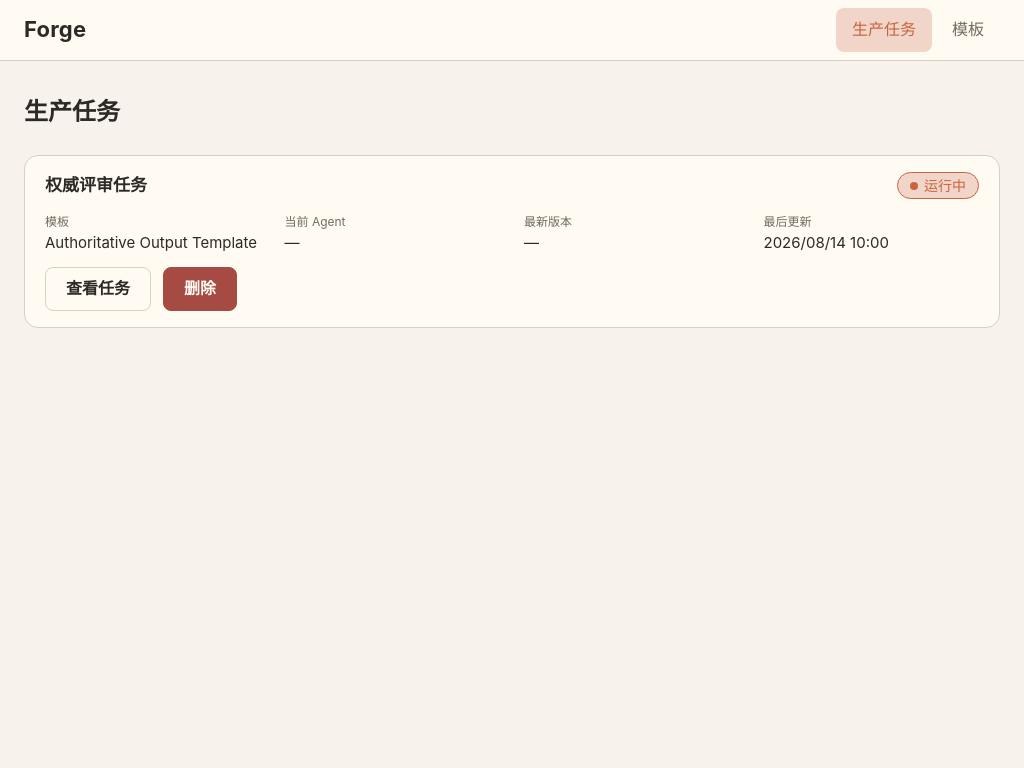
Scenario: TaskListPage v2 delete confirmation (spec §10.5) › creates ONE UUID when the v2 dialog opens and sends the exact JSON body
Expected: the heading "权威评审任务" is shown, top-left (45, 172), bottom-right (147, 200)
Expected: the list item "权威评审任务" is shown, top-left (24, 155), bottom-right (1000, 328)
Click the button "删除". click: (200, 289)
box: top-left (163, 267), bottom-right (237, 311)
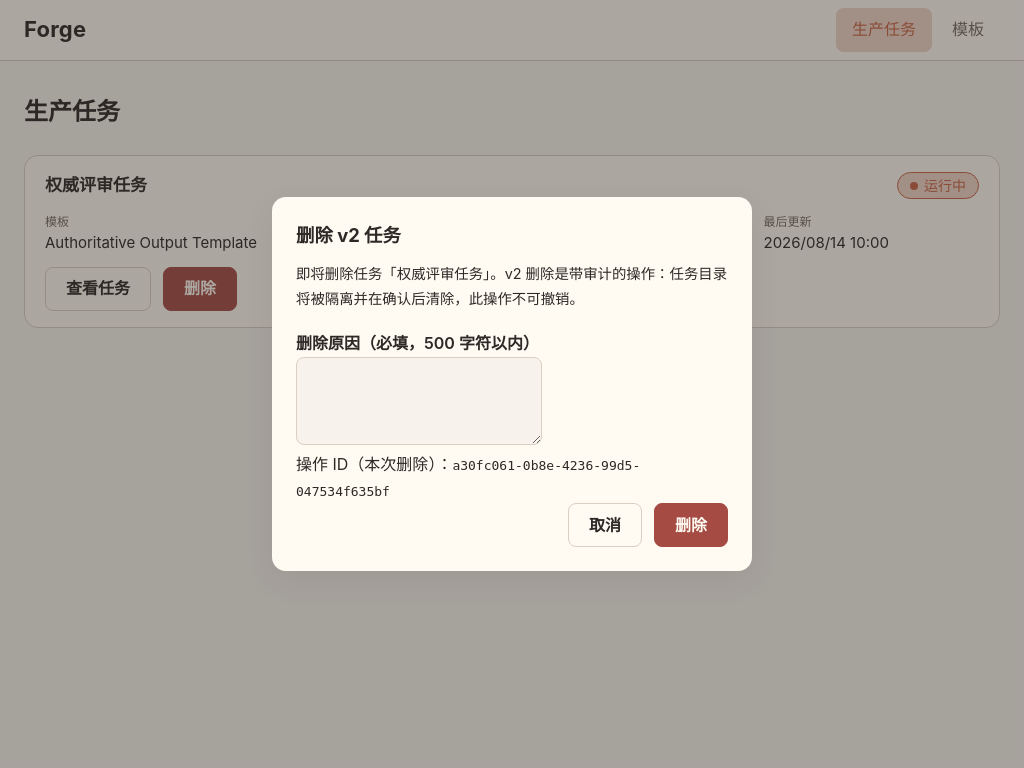
Type "遗留评审任务清理" into the text box. click: (419, 401)
box: top-left (296, 357), bottom-right (542, 445)
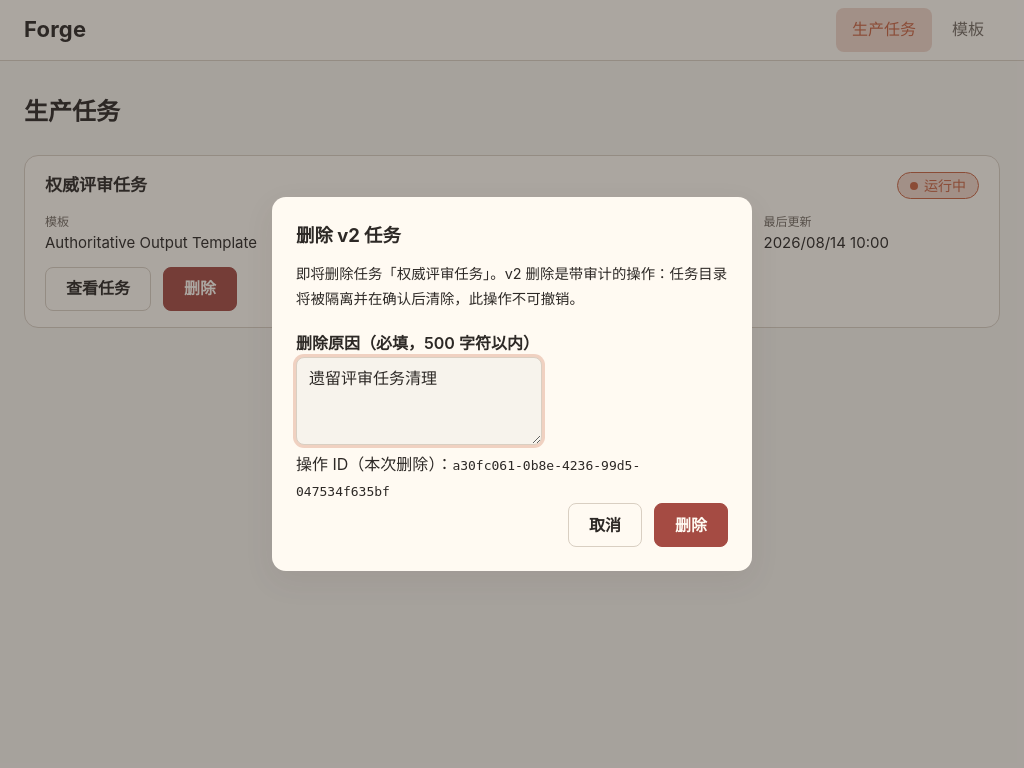
Click the button "删除". click: (691, 525)
box: top-left (654, 503), bottom-right (728, 547)
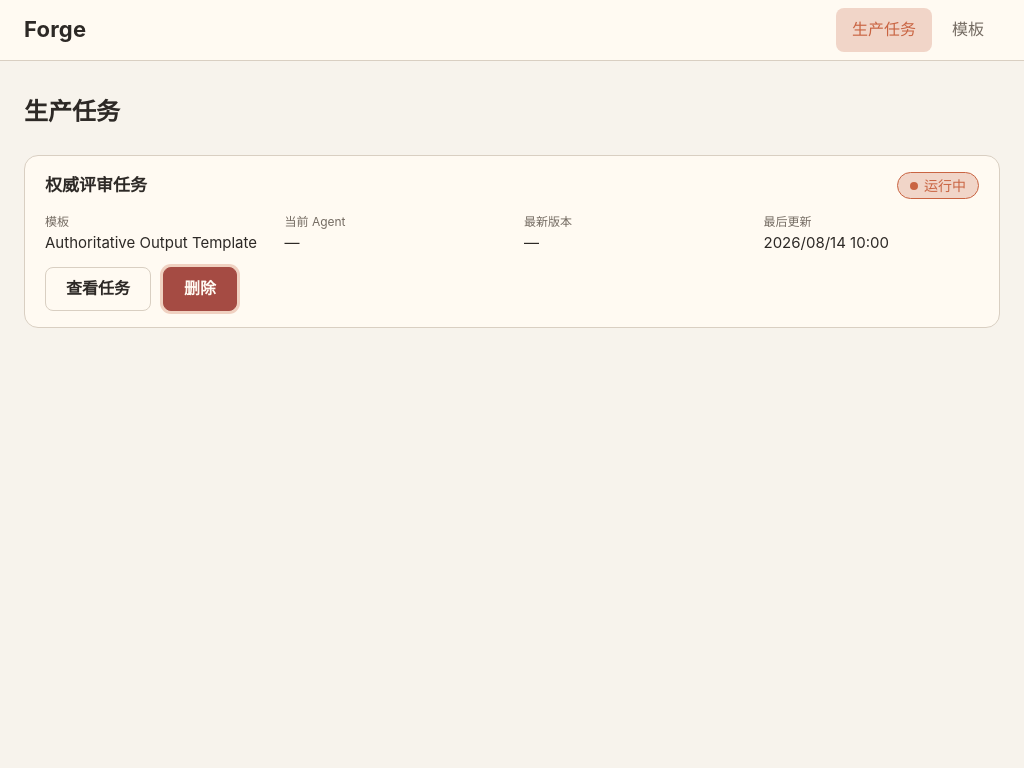
Expected: the dialog is gone
